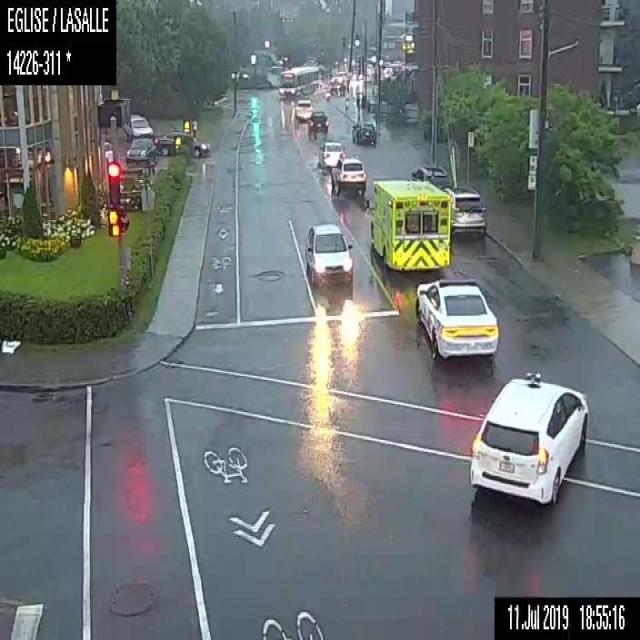bus: (277, 64, 322, 100)
pedestrian: (354, 92, 362, 118)
vehicle: (468, 370, 590, 506), (368, 178, 453, 270), (413, 274, 498, 362), (302, 220, 353, 287), (444, 182, 486, 239), (328, 156, 366, 194), (155, 130, 207, 156), (317, 138, 346, 170), (124, 136, 153, 165), (407, 164, 448, 182), (350, 120, 375, 147), (122, 112, 152, 134), (306, 108, 328, 134), (292, 100, 312, 122), (328, 69, 346, 86)
